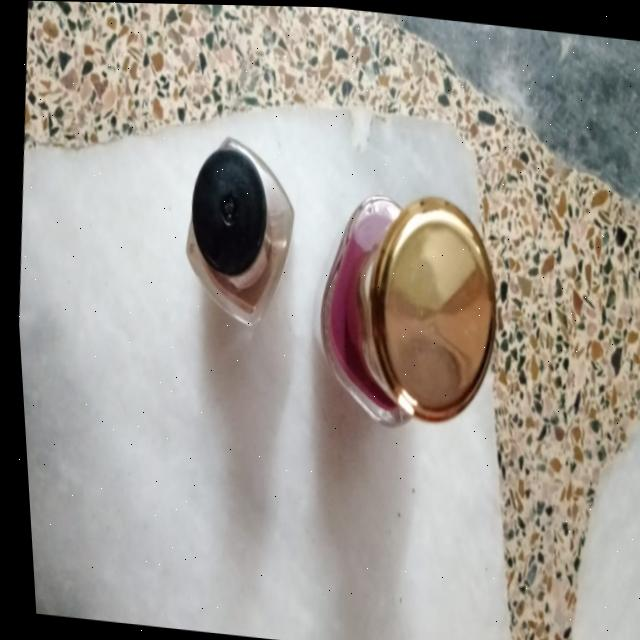nail polish: (283, 137, 526, 465), (164, 101, 315, 342)
